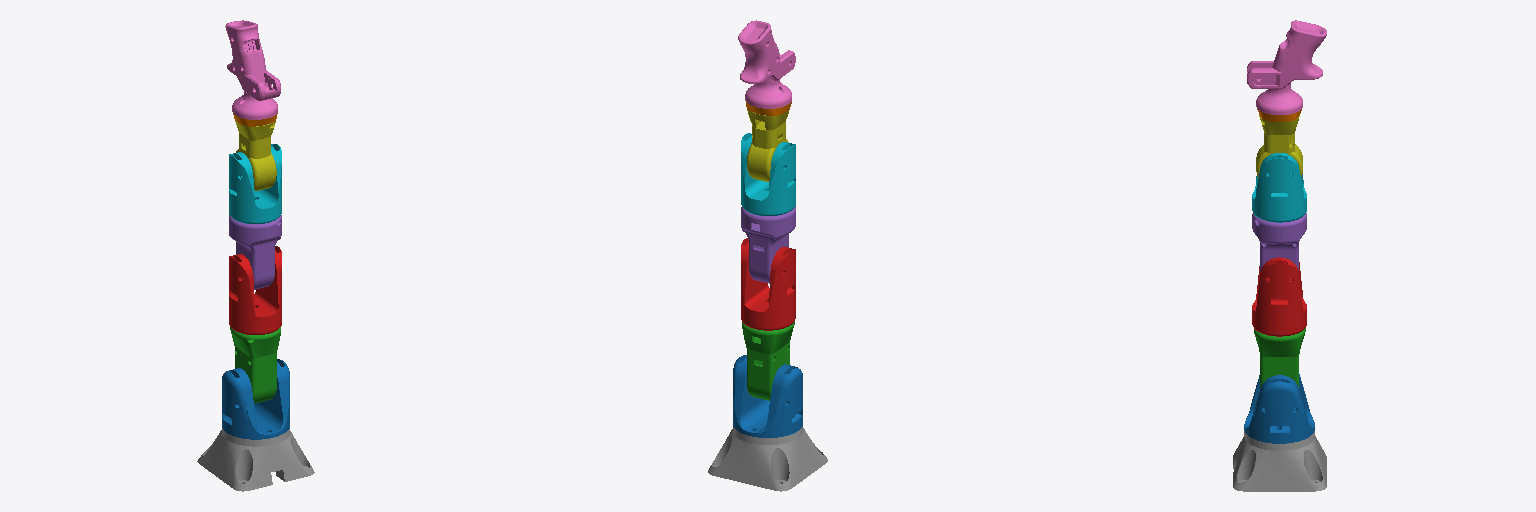
The robot description file, URDF, robot "main_assembly":
<!--URDF generated by ONSHAPE BY PTC INC, 1.221-->
<robot name="main_assembly">
    <mujoco>
        <compiler discardvisual="false" />
    </mujoco>
    <link name="link0">
        <inertial>
            <mass value="0.000417552" />
            <origin xyz="-2.79121e-08 -0.00190836 0.0218656" rpy="0 -0 0" />
            <inertia ixx="4.38629e-07" ixy="-1.1872e-12" ixz="-1.14856e-12" iyy="4.58504e-07" iyz="7.95178e-09" izz="7.46777e-07" />
        </inertial>
        <visual>
            <origin xyz="3.96482e-09 -0.00325254 0" rpy="0 -0 0" />
            <geometry>
                <mesh filename="../meshes/Link0.stl" scale="1 1 1" />
            </geometry>
            <material name="0.600000_0.600000_0.600000_0.000000_0.000000">
                <color rgba="0.6 0.6 0.6 1" />
            </material>
        </visual>
    </link>
    <link name="link1__1_" />
    <link name="link1_base">
        <inertial>
            <mass value="8.08495e-05" />
            <origin xyz="2.18877e-05 3.78775e-18 0.00824885" rpy="0 -0 0" />
            <inertia ixx="3.91403e-08" ixy="0" ixz="1.06391e-11" iyy="3.9096e-08" iyz="0" izz="7.55229e-08" />
        </inertial>
        <visual>
            <origin xyz="0 2.12782e-18 0.005" rpy="0 -0 0" />
            <geometry>
                <mesh filename="../meshes/Link1_Base.stl" scale="1 1 1" />
            </geometry>
            <material name="0.701961_0.701961_0.701961_0.000000_0.000000">
                <color rgba="0.701961 0.701961 0.701961 1" />
            </material>
        </visual>
    </link>
    <link name="link1_body__1_">
        <inertial>
            <mass value="1e-09" />
            <origin xyz="0 0 0" rpy="0 -0 0" />
            <inertia ixx="4e-14" ixy="0" ixz="0" iyy="4e-14" iyz="0" izz="4e-14" />
        </inertial>
    </link>
    <link name="link1_cover">
        <inertial>
            <mass value="2.21743e-05" />
            <origin xyz="-0.00671255 0.02 0.00279621" rpy="0 -0 0" />
            <inertia ixx="1.22231e-08" ixy="5.5113e-14" ixz="1.20084e-10" iyy="6.75278e-09" iyz="1.61698e-14" izz="6.09022e-09" />
        </inertial>
        <visual>
            <origin xyz="0.031 0.02 -0.045" rpy="0 -0 0" />
            <geometry>
                <mesh filename="../meshes/Link1_Cover.stl" scale="1 1 1" />
            </geometry>
            <material name="link1_cover_color">
                <color rgba="0.121569 0.466667 0.705882 1" />
            </material>
        </visual>
    </link>
    <link name="link1_cover__1_">
        <inertial>
            <mass value="1e-09" />
            <origin xyz="0 0 0" rpy="0 -0 0" />
            <inertia ixx="4e-14" ixy="0" ixz="0" iyy="4e-14" iyz="0" izz="4e-14" />
        </inertial>
    </link>
    <link name="link2__1_" />
    <link name="link2_l">
        <inertial>
            <mass value="5.16541e-05" />
            <origin xyz="0.000418558 0.00647931 0.0354239" rpy="0 -0 0" />
            <inertia ixx="5.40072e-08" ixy="-2.06596e-10" ixz="-6.20527e-10" iyy="6.51108e-08" iyz="1.48815e-09" izz="1.59772e-08" />
        </inertial>
        <visual>
            <origin xyz="0 0.0195 -1.56142e-19" rpy="0 -0 0" />
            <geometry>
                <mesh filename="../meshes/Link2_L.stl" scale="1 1 1" />
            </geometry>
            <material name="link2_l_color">
                <color rgba="0.172549 0.627451 0.172549 1" />
            </material>
        </visual>
    </link>
    <link name="link2_r__1_">
        <inertial>
            <mass value="1e-09" />
            <origin xyz="0 0 0" rpy="0 -0 0" />
            <inertia ixx="4e-14" ixy="0" ixz="0" iyy="4e-14" iyz="0" izz="4e-14" />
        </inertial>
    </link>
    <link name="link3__1_" />
    <link name="link3_body__1_">
        <inertial>
            <mass value="1e-09" />
            <origin xyz="0 0 0" rpy="0 -0 0" />
            <inertia ixx="4e-14" ixy="0" ixz="0" iyy="4e-14" iyz="0" izz="4e-14" />
        </inertial>
    </link>
    <link name="link3_cover">
        <inertial>
            <mass value="5.80213e-06" />
            <origin xyz="-0.00339607 0.015 -0.00564926" rpy="0 -0 0" />
            <inertia ixx="2.5483e-09" ixy="1.49775e-14" ixz="2.71588e-11" iyy="1.43273e-09" iyz="-3.44293e-15" izz="1.1834e-09" />
        </inertial>
        <visual>
            <origin xyz="0.0265 0.015 -0.08" rpy="0 -0 0" />
            <geometry>
                <mesh filename="../meshes/Link3_Cover.stl" scale="1 1 1" />
            </geometry>
            <material name="link3_cover_color">
                <color rgba="0.839216 0.152941 0.156863 1" />
            </material>
        </visual>
    </link>
    <link name="link3_cover__1_">
        <inertial>
            <mass value="1e-09" />
            <origin xyz="0 0 0" rpy="0 -0 0" />
            <inertia ixx="4e-14" ixy="0" ixz="0" iyy="4e-14" iyz="0" izz="4e-14" />
        </inertial>
    </link>
    <link name="link4__1_" />
    <link name="link4_l">
        <inertial>
            <mass value="5.36498e-05" />
            <origin xyz="0.00345062 -0.000581581 0.0385583" rpy="0 -0 0" />
            <inertia ixx="6.20127e-08" ixy="2.39305e-10" ixz="3.8298e-09" iyy="4.96443e-08" iyz="7.98136e-10" izz="1.96709e-08" />
        </inertial>
        <visual>
            <origin xyz="0.017 0 -0.025" rpy="0 -0 0" />
            <geometry>
                <mesh filename="../meshes/Link4_L.stl" scale="1 1 1" />
            </geometry>
            <material name="link4_l_color">
                <color rgba="0.580392 0.403922 0.741176 1" />
            </material>
        </visual>
    </link>
    <link name="link4_r__1_">
        <inertial>
            <mass value="1e-09" />
            <origin xyz="0 0 0" rpy="0 -0 0" />
            <inertia ixx="4e-14" ixy="0" ixz="0" iyy="4e-14" iyz="0" izz="4e-14" />
        </inertial>
    </link>
    <link name="link5__1_" />
    <link name="link5_body__1_">
        <inertial>
            <mass value="1e-09" />
            <origin xyz="0 0 0" rpy="0 -0 0" />
            <inertia ixx="4e-14" ixy="0" ixz="0" iyy="4e-14" iyz="0" izz="4e-14" />
        </inertial>
    </link>
    <link name="link5_cover">
        <inertial>
            <mass value="6.64004e-06" />
            <origin xyz="0.00383542 -0.0149999 -0.0039549" rpy="0 -0 0" />
            <inertia ixx="2.73814e-09" ixy="7.82476e-15" ixz="-2.5556e-11" iyy="1.38451e-09" iyz="-1.94351e-15" izz="1.45016e-09" />
        </inertial>
        <visual>
            <origin xyz="-0.0255 -0.015 -0.067" rpy="0 -0 0" />
            <geometry>
                <mesh filename="../meshes/Link5_Cover.stl" scale="1 1 1" />
            </geometry>
            <material name="link5_cover_color">
                <color rgba="0.090196 0.745098 0.811765 1" />
            </material>
        </visual>
    </link>
    <link name="link5_cover__1_">
        <inertial>
            <mass value="1e-09" />
            <origin xyz="0 0 0" rpy="0 -0 0" />
            <inertia ixx="4e-14" ixy="0" ixz="0" iyy="4e-14" iyz="0" izz="4e-14" />
        </inertial>
    </link>
    <link name="link6__1_" />
    <link name="link6_l__1_">
        <inertial>
            <mass value="1e-09" />
            <origin xyz="0 0 0" rpy="0 -0 0" />
            <inertia ixx="4e-14" ixy="0" ixz="0" iyy="4e-14" iyz="0" izz="4e-14" />
        </inertial>
    </link>
    <link name="link6_r">
        <inertial>
            <mass value="3.15453e-05" />
            <origin xyz="0.011471 0.021907 0.0233343" rpy="0 -0 0" />
            <inertia ixx="3.65276e-08" ixy="-4.74091e-11" ixz="-2.4189e-10" iyy="2.98222e-08" iyz="4.61316e-11" izz="8.59869e-09" />
        </inertial>
        <visual>
            <origin xyz="0 0.022 0" rpy="0 -0 0" />
            <geometry>
                <mesh filename="../meshes/Link6_R.stl" scale="1 1 1" />
            </geometry>
            <material name="link6_r_color">
                <color rgba="0.737255 0.741176 0.133333 1" />
            </material>
        </visual>
    </link>
    <link name="link7__1_" />
    <link name="link7_base">
        <inertial>
            <mass value="2.43804e-05" />
            <origin xyz="3.64356e-05 -1.52894e-10 0.00606953" rpy="0 -0 0" />
            <inertia ixx="5.54533e-09" ixy="-4.35963e-12" ixz="4.05918e-12" iyy="5.38033e-09" iyz="0" izz="1.04729e-08" />
        </inertial>
        <visual>
            <origin xyz="-1.49788e-18 -1.79746e-18 -0.072" rpy="0 -0 0" />
            <geometry>
                <mesh filename="../meshes/Link7_Base.stl" scale="1 1 1" />
            </geometry>
            <material name="0.972549_0.529412_0.003922_0.000000_0.000000">
                <color rgba="0.972549 0.529412 0.00392157 1" />
            </material>
        </visual>
    </link>
    <link name="link7_l__1_">
        <inertial>
            <mass value="1e-09" />
            <origin xyz="0 0 0" rpy="0 -0 0" />
            <inertia ixx="4e-14" ixy="0" ixz="0" iyy="4e-14" iyz="0" izz="4e-14" />
        </inertial>
    </link>
    <link name="link7_r">
        <inertial>
            <mass value="7.87367e-05" />
            <origin xyz="0.000553714 0.000987729 -0.0484137" rpy="0 -0 0" />
            <inertia ixx="7.9375e-08" ixy="-1.52267e-09" ixz="2.981e-08" iyy="1.11753e-07" iyz="2.87849e-09" izz="3.75026e-08" />
        </inertial>
        <visual>
            <origin xyz="-0.036 0.01 -0.0425" rpy="0 -0 0" />
            <geometry>
                <mesh filename="../meshes/Link7_R.stl" scale="1 1 1" />
            </geometry>
            <material name="link7_r_color">
                <color rgba="0.890196 0.466667 0.760784 1" />
            </material>
        </visual>
    </link>
    <link name="root" />
    <joint name="fastened_1" type="fixed">
        <origin xyz="0 0 0" rpy="0 -0 0" />
        <axis xyz="-0 -0 1" />
        <parent link="link5_body__1_" />
        <child link="link5__1_" />
    </joint>
    <joint name="fastened_1_1" type="fixed">
        <origin xyz="0.02 0.0195 0" rpy="0 -0 0" />
        <axis xyz="-0 -1 -0" />
        <parent link="link2_l" />
        <child link="link2_r__1_" />
    </joint>
    <joint name="fastened_1_2" type="fixed">
        <origin xyz="0.01725 -0.022 0" rpy="0 -0 0" />
        <axis xyz="-1 -0 -0" />
        <parent link="link6_l__1_" />
        <child link="link6_r" />
    </joint>
    <joint name="fastened_1_3" type="fixed">
        <origin xyz="0 0 0" rpy="0 -0 0" />
        <axis xyz="-0 -0 1" />
        <parent link="link3_body__1_" />
        <child link="link3__1_" />
    </joint>
    <joint name="fastened_1_4" type="fixed">
        <origin xyz="0 3.90313e-18 -6.93889e-18" rpy="0 -0 0" />
        <axis xyz="-0 -0 1" />
        <parent link="link1_base" />
        <child link="link1__1_" />
    </joint>
    <joint name="fastened_1_5" type="fixed">
        <origin xyz="-3.90313e-18 -1.73472e-18 1.11022e-16" rpy="3.14159 -0 0" />
        <axis xyz="-0 -0 -1" />
        <parent link="link7_base" />
        <child link="link7__1_" />
    </joint>
    <joint name="fastened_1_6" type="fixed">
        <origin xyz="0.017 -0.02 0" rpy="0 -0 0" />
        <axis xyz="-1 -0 -0" />
        <parent link="link4_l" />
        <child link="link4_r__1_" />
    </joint>
    <joint name="fastened_1_7" type="fixed">
        <origin xyz="-1.60705e-19 1.30104e-18 0" rpy="0 -0 0" />
        <axis xyz="0 0 -1" />
        <parent link="root" />
        <child link="link0" />
    </joint>
    <joint name="fastened_2" type="fixed">
        <origin xyz="-0.0255 -0.015 0.067" rpy="0 1.10934e-31 0" />
        <axis xyz="1 0 6.15827e-17" />
        <parent link="link5_body__1_" />
        <child link="link5_cover__1_" />
    </joint>
    <joint name="fastened_2_1" type="fixed">
        <origin xyz="-0.02 0 0.084" rpy="0 -0 0" />
        <axis xyz="-0 -0 -1" />
        <parent link="link2_r__1_" />
        <child link="link2__1_" />
    </joint>
    <joint name="fastened_2_2" type="fixed">
        <origin xyz="0.01725 0 0.072" rpy="0 -0 0" />
        <axis xyz="-0 -0 -1" />
        <parent link="link6_l__1_" />
        <child link="link6__1_" />
    </joint>
    <joint name="fastened_2_3" type="fixed">
        <origin xyz="-0.0265 -0.015 0.08" rpy="0 4.33681e-19 0" />
        <axis xyz="1 0 -1.30972e-16" />
        <parent link="link3_body__1_" />
        <child link="link3_cover" />
    </joint>
    <joint name="fastened_2_4" type="fixed">
        <origin xyz="0 4.77049e-18 0.015" rpy="0 -0 0" />
        <axis xyz="0 0 -1" />
        <parent link="link1_base" />
        <child link="link1_body__1_" />
    </joint>
    <joint name="fastened_2_5" type="fixed">
        <origin xyz="0.01 -0.01 0.011" rpy="3.14159 -0 0" />
        <axis xyz="-0 -0 1" />
        <parent link="link7_base" />
        <child link="link7_l__1_" />
    </joint>
    <joint name="fastened_2_6" type="fixed">
        <origin xyz="0.017 0 0.08" rpy="0 -0 0" />
        <axis xyz="-0 -0 -1" />
        <parent link="link4_l" />
        <child link="link4__1_" />
    </joint>
    <joint name="fastened_3" type="fixed">
        <origin xyz="0.0255 0.015 0.067" rpy="0 -1.10934e-31 0" />
        <axis xyz="-1 0 6.15827e-17" />
        <parent link="link5_body__1_" />
        <child link="link5_cover" />
    </joint>
    <joint name="fastened_3_1" type="fixed">
        <origin xyz="0.0265 0.015 0.08" rpy="0 -0 0" />
        <axis xyz="-1 0 -1.30972e-16" />
        <parent link="link3_body__1_" />
        <child link="link3_cover__1_" />
    </joint>
    <joint name="fastened_3_2" type="fixed">
        <origin xyz="0.031 -0.02 0.045" rpy="0 -0 0" />
        <axis xyz="-1 0 -1.22465e-16" />
        <parent link="link1_body__1_" />
        <child link="link1_cover__1_" />
    </joint>
    <joint name="fastened_3_3" type="fixed">
        <origin xyz="0.01 0.01 0.0115" rpy="3.14159 -0 0" />
        <axis xyz="0 0 1" />
        <parent link="link7_base" />
        <child link="link7_r" />
    </joint>
    <joint name="fastened_4" type="fixed">
        <origin xyz="-0.031 -0.02 0.045" rpy="0 -0 0" />
        <axis xyz="1 0 -1.22465e-16" />
        <parent link="link1_body__1_" />
        <child link="link1_cover" />
    </joint>
    <joint name="joint1" type="revolute">
        <origin xyz="3.96482e-09 -0.00325254 0.045" rpy="0 -0 0" />
        <axis xyz="0 0 -1" />
        <parent link="link0" />
        <child link="link1_base" />
        <limit effort="1" velocity="1" lower="-2.96706" upper="2.96706" />
    </joint>
    <joint name="joint2" type="revolute">
        <origin xyz="-0.02 -2.60209e-18 0.06" rpy="-2.31296e-16 2.46519e-32 -1.5708" />
        <axis xyz="0 -1 0" />
        <parent link="link1_body__1_" />
        <child link="link2_l" />
        <limit effort="1" velocity="1" lower="-2.0944" upper="2.0944" />
    </joint>
    <joint name="joint3" type="revolute">
        <origin xyz="-0.02 -3.25261e-19 0.084" rpy="0 -0 1.5708" />
        <axis xyz="0 0 -1" />
        <parent link="link2_r__1_" />
        <child link="link3_body__1_" />
        <limit effort="1" velocity="1" lower="-2.96706" upper="2.96706" />
    </joint>
    <joint name="joint4" type="revolute">
        <origin xyz="-0.0175 -1.38778e-17 0.08" rpy="0 -1.83766e-16 0" />
        <axis xyz="-1 0 0" />
        <parent link="link3_body__1_" />
        <child link="link4_l" />
        <limit effort="1" velocity="1" lower="-2.0944" upper="2.0944" />
    </joint>
    <joint name="joint5" type="revolute">
        <origin xyz="8.89046e-18 0.02 0.08" rpy="0 -0 0" />
        <axis xyz="0 0 -1" />
        <parent link="link4_r__1_" />
        <child link="link5_body__1_" />
        <limit effort="1" velocity="1" lower="-2.96706" upper="2.96706" />
    </joint>
    <joint name="joint6" type="revolute">
        <origin xyz="-0.0175 0 0.067" rpy="0 3.0359e-16 0" />
        <axis xyz="-1 0 0" />
        <parent link="link5_body__1_" />
        <child link="link6_l__1_" />
        <limit effort="1" velocity="1" lower="-2.0944" upper="2.0944" />
    </joint>
    <joint name="joint7" type="revolute">
        <origin xyz="4.33681e-19 0.022 0.072" rpy="0 -0 1.5708" />
        <axis xyz="0 0 -1" />
        <parent link="link6_r" />
        <child link="link7_base" />
        <limit effort="1" velocity="1" lower="-2.96706" upper="2.96706" />
    </joint>
</robot>

--- Facts derived from the render (not from the file) ---
The picture shows the robot from 3 angles, left to right: view 1: azimuth 30°, elevation 25°; view 2: azimuth 150°, elevation 25°; view 3: azimuth 270°, elevation 25°; orthographic projection.
Robot: main_assembly — 28 links, 27 joints (7 revolute, 20 fixed); root link root; default pose: all joints at 0.
Visible links, largest first — view 1: link0, link1_cover, link7_r, link3_cover, link5_cover, link2_l, link4_l, link6_r; view 2: link0, link1_cover, link3_cover, link7_r, link5_cover, link2_l, link4_l, link6_r; view 3: link7_r, link0, link1_cover, link3_cover, link5_cover, link4_l, link2_l, link6_r.
Boxes of the visible links, box(x1,y1,x2,y2) form: link0: box(197, 430, 314, 491); link1_cover: box(222, 359, 289, 439); link7_r: box(225, 20, 280, 119); link3_cover: box(229, 246, 281, 334); link5_cover: box(229, 144, 281, 223); link2_l: box(230, 327, 280, 403); link4_l: box(229, 215, 281, 289); link6_r: box(235, 120, 276, 190); link0: box(708, 428, 827, 491); link1_cover: box(733, 355, 802, 437); link3_cover: box(741, 238, 795, 330); link7_r: box(738, 20, 795, 108); link5_cover: box(741, 133, 795, 215); link2_l: box(742, 321, 794, 400); link4_l: box(741, 206, 795, 283); link6_r: box(747, 109, 789, 181); link7_r: box(1247, 20, 1326, 114); link0: box(1233, 436, 1326, 491); link1_cover: box(1244, 374, 1314, 443); link3_cover: box(1252, 257, 1306, 336); link5_cover: box(1252, 153, 1306, 222); link4_l: box(1252, 213, 1306, 271); link2_l: box(1254, 328, 1305, 388); link6_r: box(1256, 113, 1302, 177).
Bounding box of the posed robot: 0.12 × 0.1207 × 0.6282 m (x, y, z).
10 mesh visuals loaded from 10 distinct referenced files (10 binary STL).
